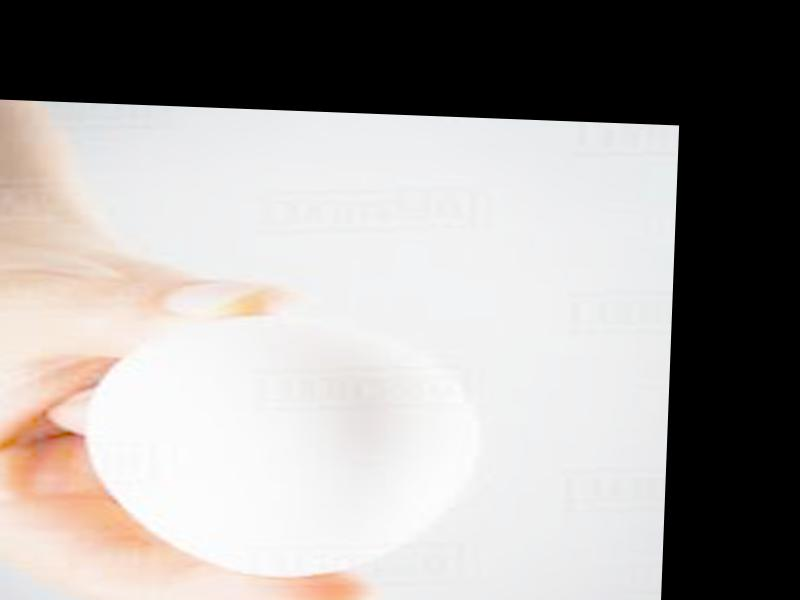Eggs: (84, 314, 482, 584)
